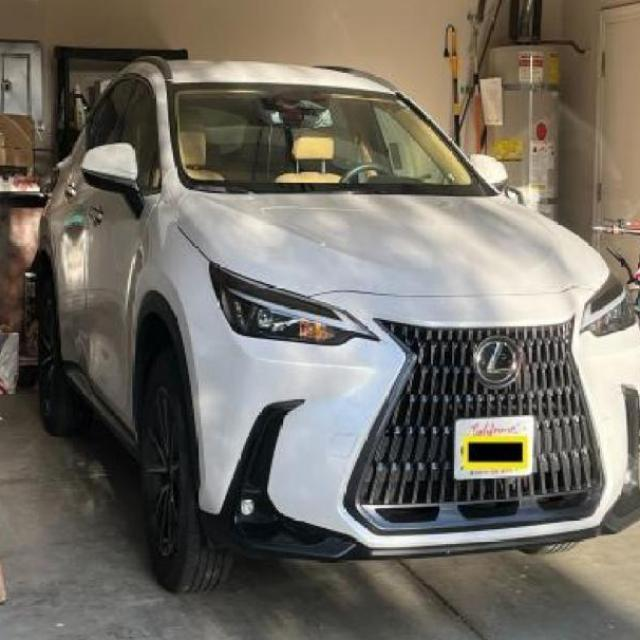license-plate: (462, 421, 554, 476)
